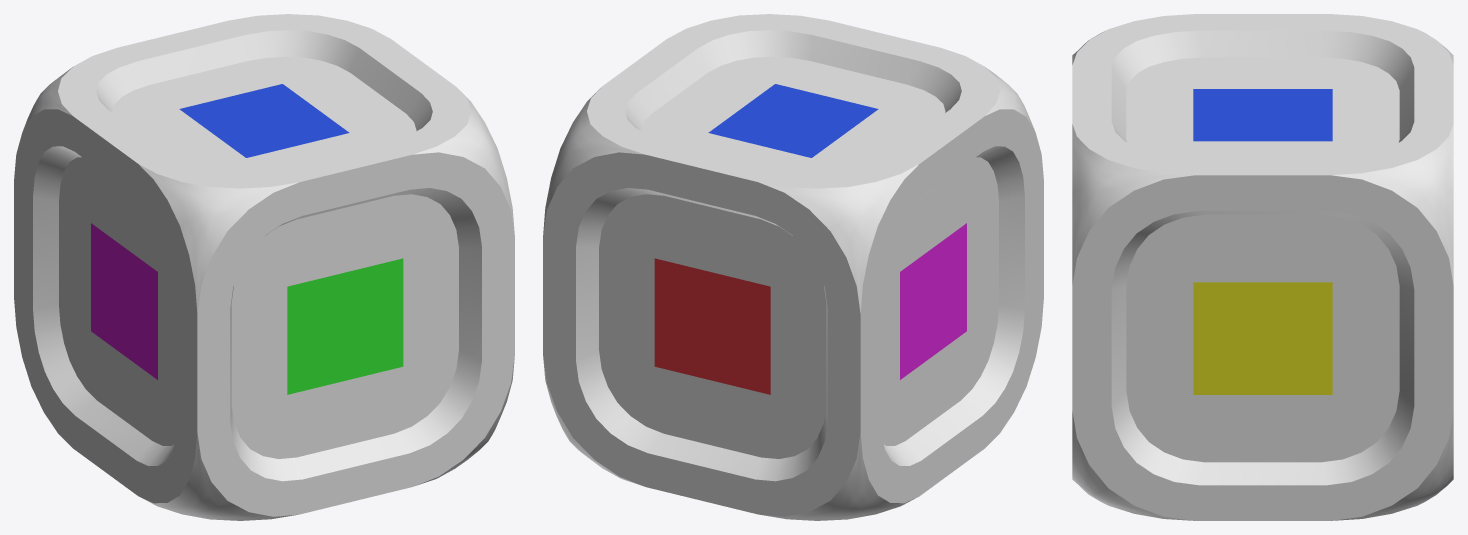
The picture shows the model from 3 angles, left to right: view 1: azimuth 30°, elevation 25°; view 2: azimuth 150°, elevation 25°; view 3: azimuth 270°, elevation 25°; orthographic projection. The views are drawn at different scales.
Parts seen in each view (by area): view 1: Dice_01.007; view 2: Dice_01.007; view 3: Dice_01.007.
Boxes of the visible parts, bbox=[...] form: Dice_01.007: bbox=[14, 14, 514, 520]; Dice_01.007: bbox=[543, 14, 1043, 520]; Dice_01.007: bbox=[1072, 14, 1453, 520].
Bounding box in the file's own units: 235 × 235 × 235.
